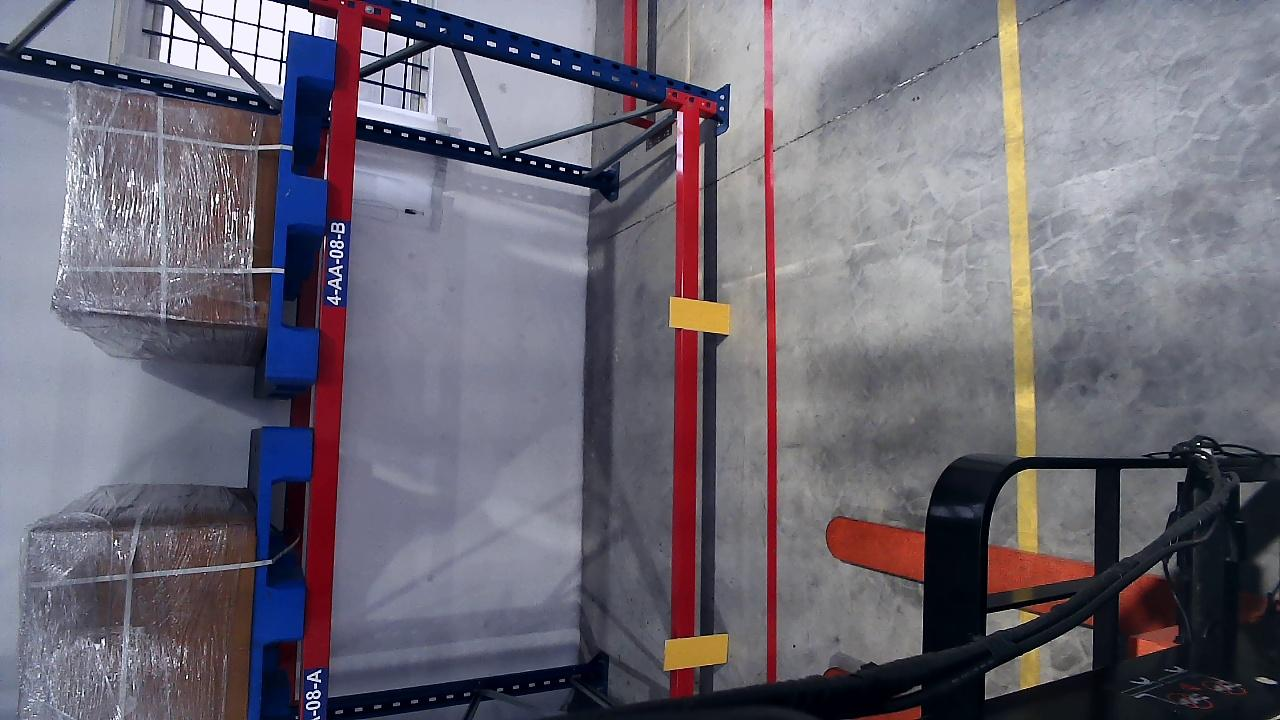h_rack: (295, 14, 362, 701), (672, 105, 703, 686)
orange_strip: (669, 296, 731, 335), (664, 635, 728, 669)
red_line: (763, 0, 774, 684)
small_pallet: (270, 33, 333, 381), (243, 427, 306, 720)
yellow_line: (996, 0, 1037, 683)
